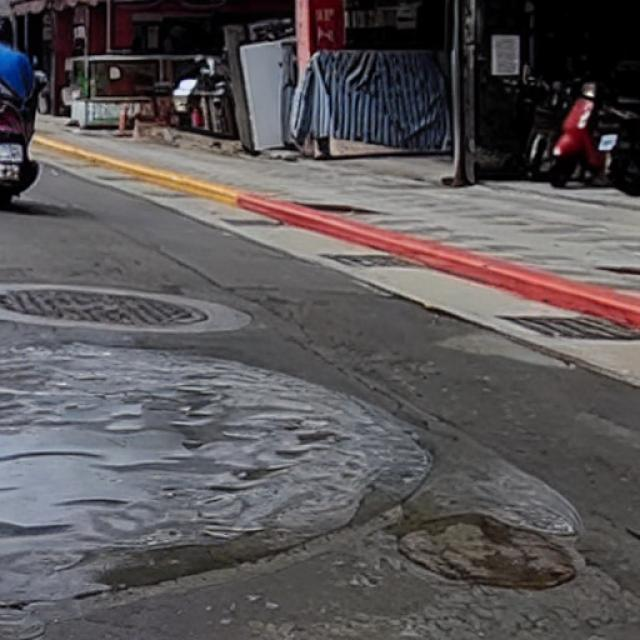puddle: (1, 340, 432, 598)
